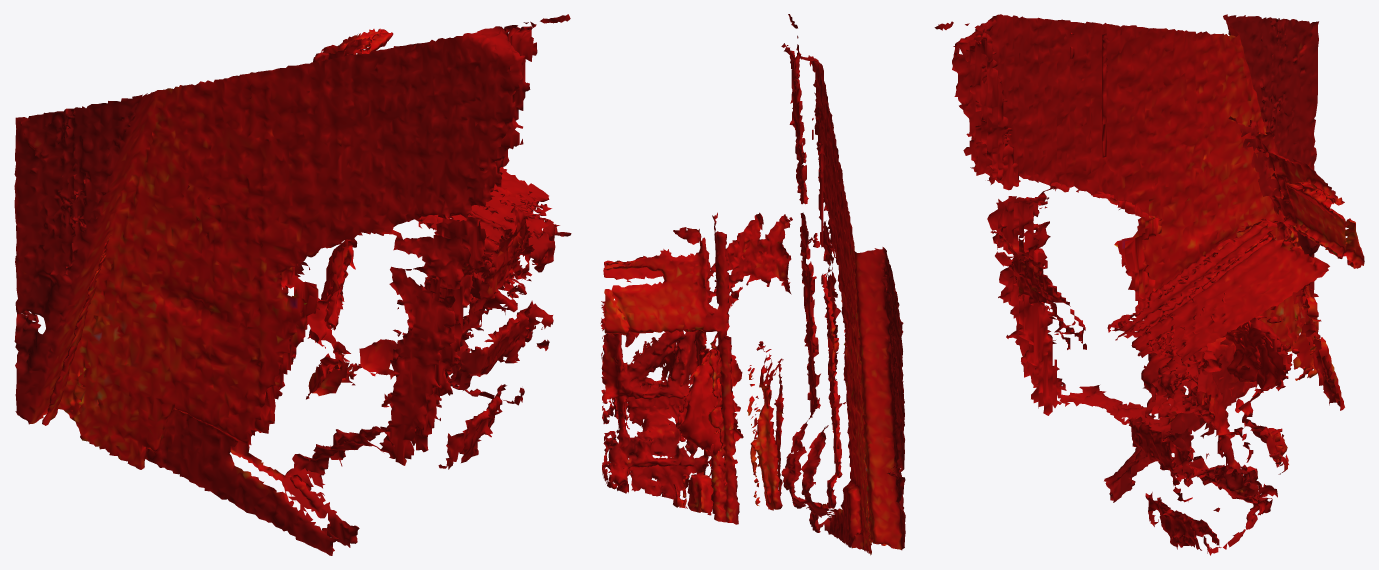
3 renders of one model, left to right at view 1: azimuth 30°, elevation 25°; view 2: azimuth 150°, elevation 25°; view 3: azimuth 270°, elevation 25°, orthographic. The views are drawn at different scales.
Bounding box in the file's own units: 2.06 × 2.38 × 1.73.
